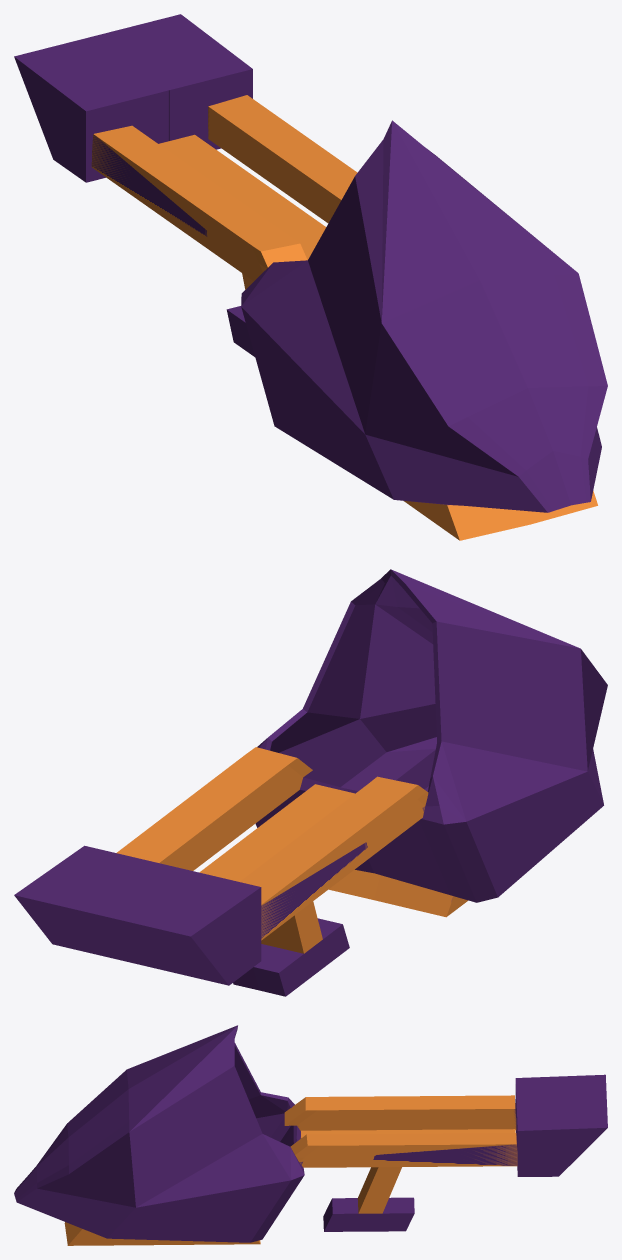
The model's file is bowling_ball_return_machine.fbx.
The picture shows the model from 3 angles, top to bottom: view 1: azimuth 30°, elevation 25°; view 2: azimuth 150°, elevation 25°; view 3: azimuth 270°, elevation 25°; orthographic projection. The views are drawn at different scales.
Visible parts, largest first — view 1: bowling_return_machine; view 2: bowling_return_machine; view 3: bowling_return_machine.
Boxes of the visible parts, x1,y1,x2,y2 form: bowling_return_machine: [14, 14, 607, 540]; bowling_return_machine: [14, 569, 607, 996]; bowling_return_machine: [14, 1025, 607, 1245].
Size of the model in its own units: 1.39 by 4.93 by 1.83.
1 material, 1 textured.
